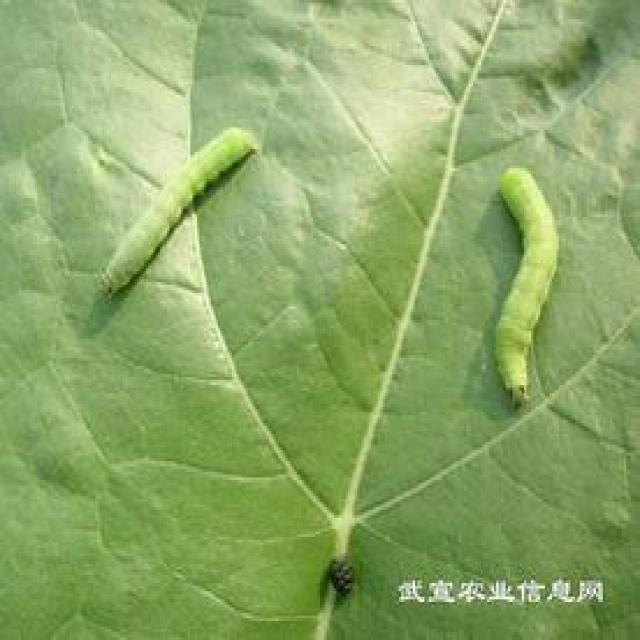BeetArmyWorm-Larva-: (95, 121, 263, 301), (486, 162, 563, 426)
